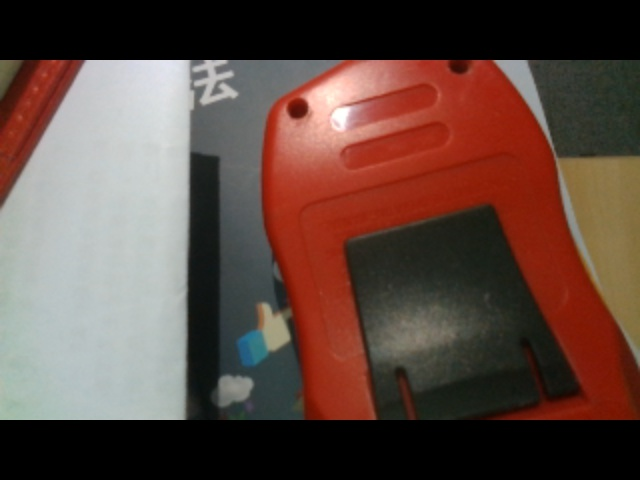Screw holes: (285, 96, 311, 121)
